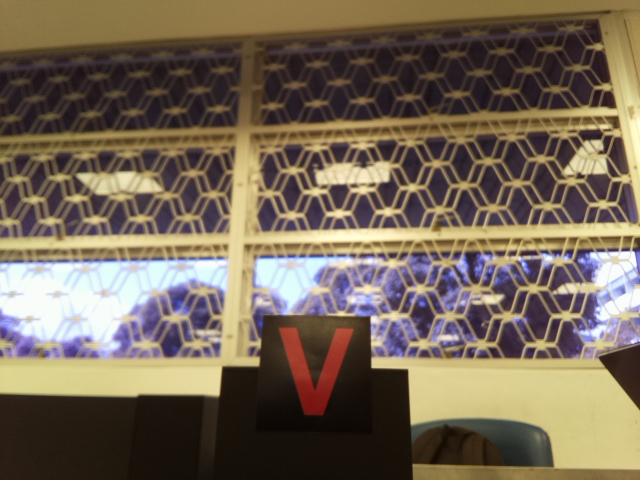v: (273, 315, 361, 415)
